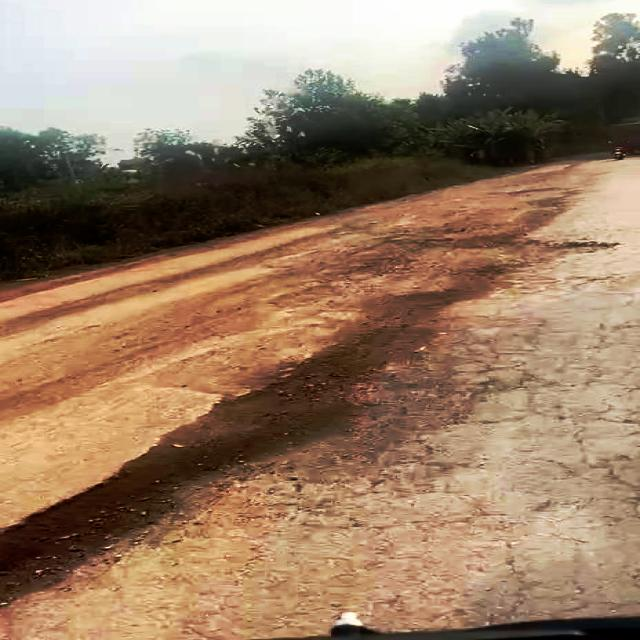pothole: (0, 378, 366, 605), (268, 269, 522, 397), (544, 234, 622, 256)
